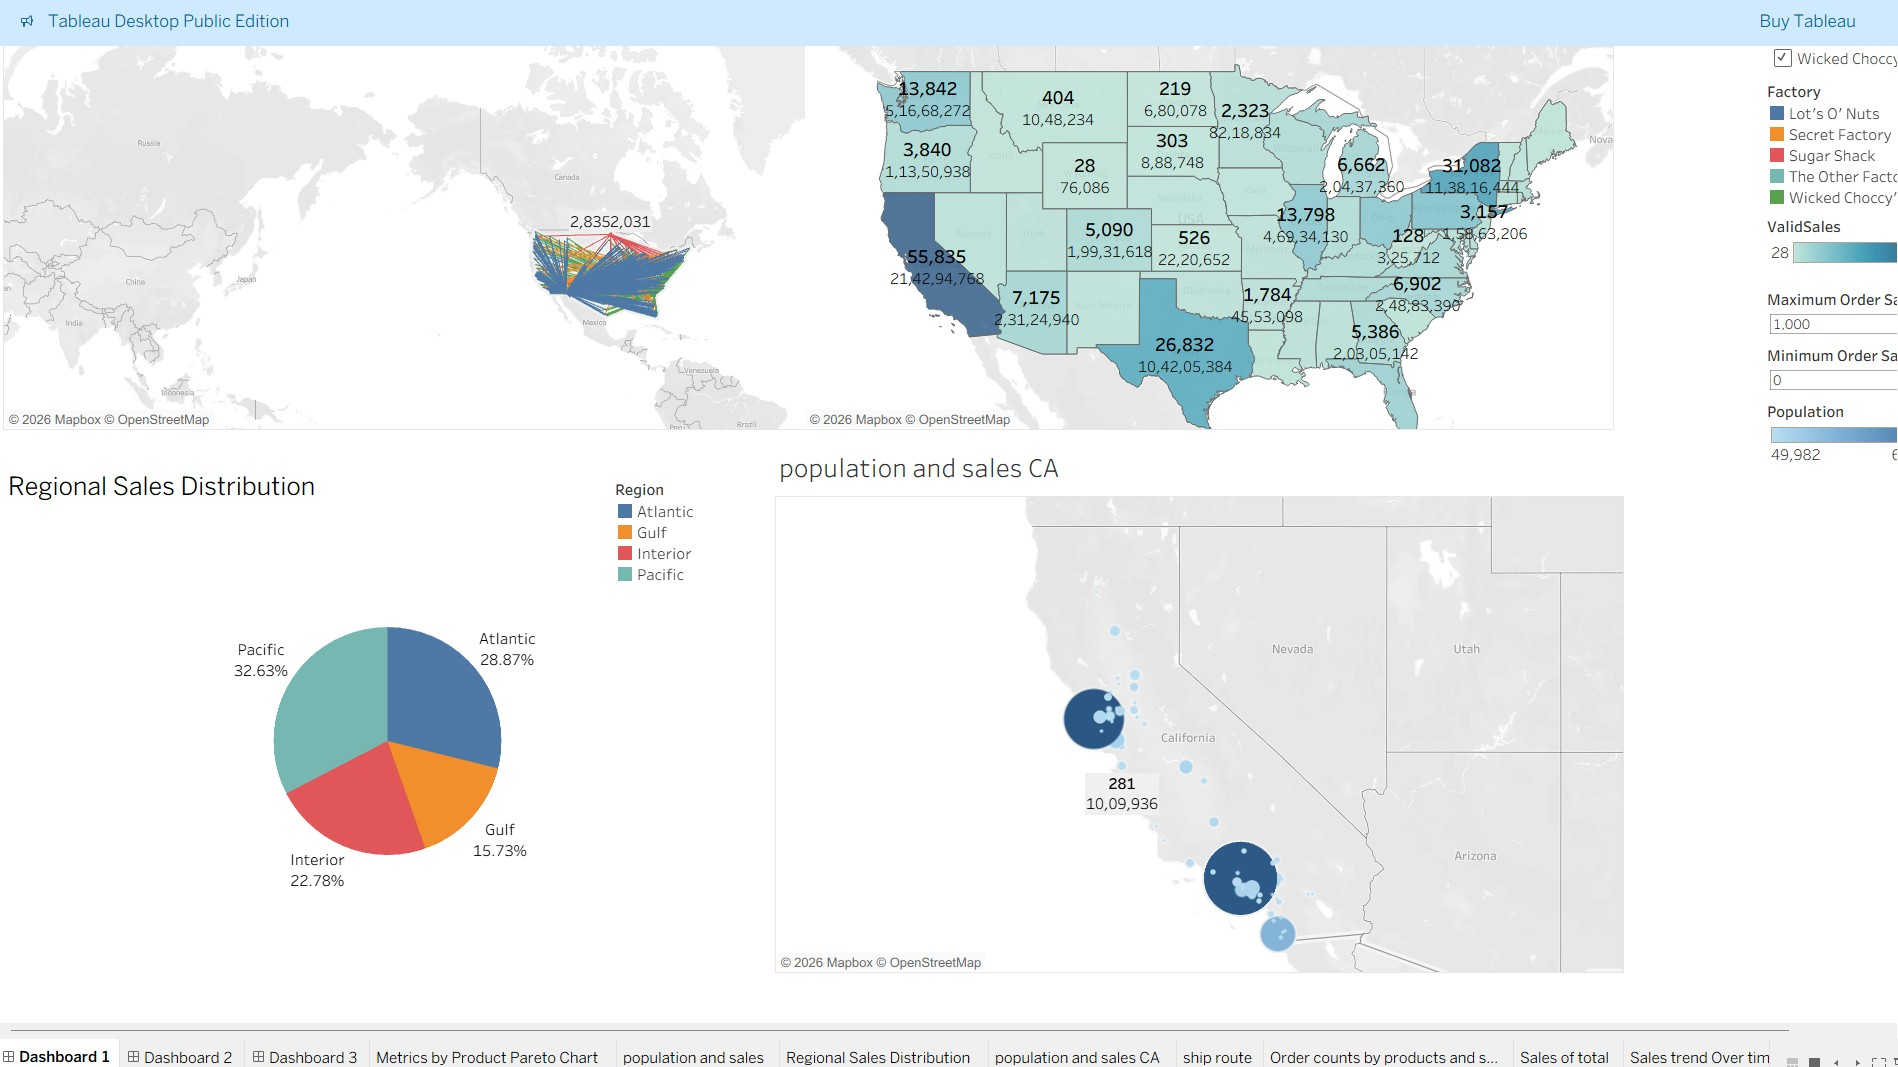

The dashboard page shown, as its layout file describes it:
{"tool":"tableau","page":{"name":"Dashboard 1","canvas":[2000,1200],"ordinal":0},"visuals":[{"type":"filter","title":"ship route","param":"[federated.1p94yvg0sf2p63112fp8r1g3j99v].[sum:Sales:qk]","box":[1769,8,223,77]},{"type":"text","box":[304,34.3,1319,53.1]},{"type":"filter","title":"ship route","param":"[federated.1p94yvg0sf2p63112fp8r1g3j99v].[none:Factory:nk]","box":[1769,85,223,202]},{"type":"text","box":[137.1,88.5,1291.4,55.5]},{"type":"worksheet","title":"population and sales","mark":"Automatic","box":[810,147,810,460.5]},{"type":"worksheet","title":"ship route","mark":"Line","rows":["Calculation_681732395796660225"],"cols":["Calculation_681732395797377026"],"box":[8.6,154.5,802.9,453]},{"type":"legend","title":"ship route","param":"[federated.1p94yvg0sf2p63112fp8r1g3j99v].[none:Factory:nk]","box":[1769,287,223,159]},{"type":"legend","title":"population and sales","param":"[federated.1p94yvg0sf2p63112fp8r1g3j99v].[sum:Calculation_1639591743996203010:qk","box":[1769,446,223,81]},{"type":"parameter","param":"[Parameters].[Parameter 4]","box":[1769,527,223,60]},{"type":"parameter","param":"[Parameters].[Parameter 3]","box":[1769,587,223,60]},{"type":"worksheet","title":"population and sales CA","mark":"Automatic","box":[781.4,624,848.6,526.5]},{"type":"worksheet","title":"Regional Sales Distribution","mark":"Pie","box":[10,643.5,767.1,502.5]},{"type":"legend","title":"population and sales CA","param":"[federated.1p94yvg0sf2p63112fp8r1g3j99v].[sum:population:qk]","box":[1769,647,223,81]},{"type":"legend","title":"Regional Sales Distribution","param":"[federated.1p94yvg0sf2p63112fp8r1g3j99v].[none:Region:nk]","box":[621.4,657,111.4,166.5]}]}

Visuals, with their boxes on the page's 2000x1200 design canvas (x1, y1, x2, y2). These are canvas units, not pixel positions in the 1898x1067 screenshot, which may show the page scaled, cropped or inside an application window:
"ship route" filter: bbox=[1769, 8, 1992, 85]
text: bbox=[304, 34, 1623, 87]
"ship route" filter: bbox=[1769, 85, 1992, 287]
text: bbox=[137, 88, 1428, 144]
"population and sales" worksheet: bbox=[810, 147, 1620, 608]
"ship route" worksheet (Line marks): bbox=[9, 154, 812, 608]
"ship route" legend: bbox=[1769, 287, 1992, 446]
"population and sales" legend: bbox=[1769, 446, 1992, 527]
parameter: bbox=[1769, 527, 1992, 587]
parameter: bbox=[1769, 587, 1992, 647]
"population and sales CA" worksheet: bbox=[781, 624, 1630, 1150]
"Regional Sales Distribution" worksheet (Pie marks): bbox=[10, 644, 777, 1146]
"population and sales CA" legend: bbox=[1769, 647, 1992, 728]
"Regional Sales Distribution" legend: bbox=[621, 657, 733, 824]
